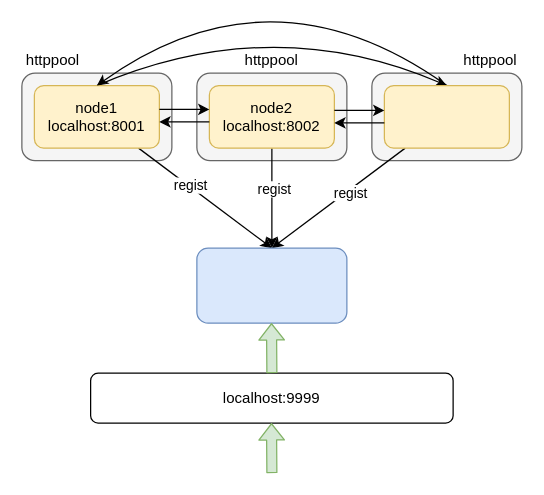
This 544x495 diagram has some shape labels left out. The shapes that lost their labels are listed below. From the top down, each one's centre as x and y in pixels, then its label:
At (x=446, y=116): "node3 localhost:8003".
At (x=271, y=285): "group".
